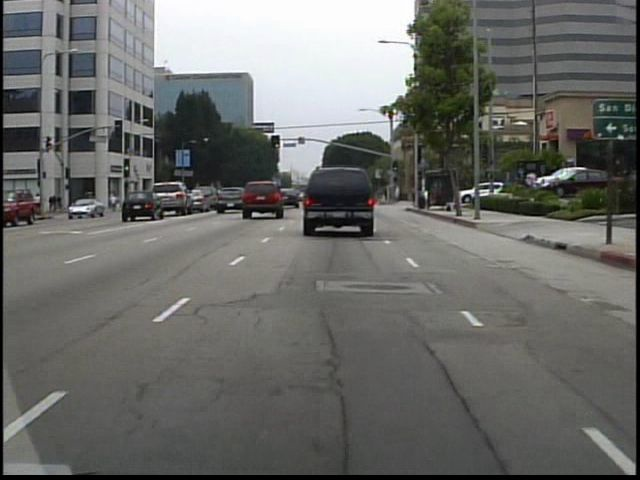person: (393, 183, 405, 206), (111, 191, 122, 214)
